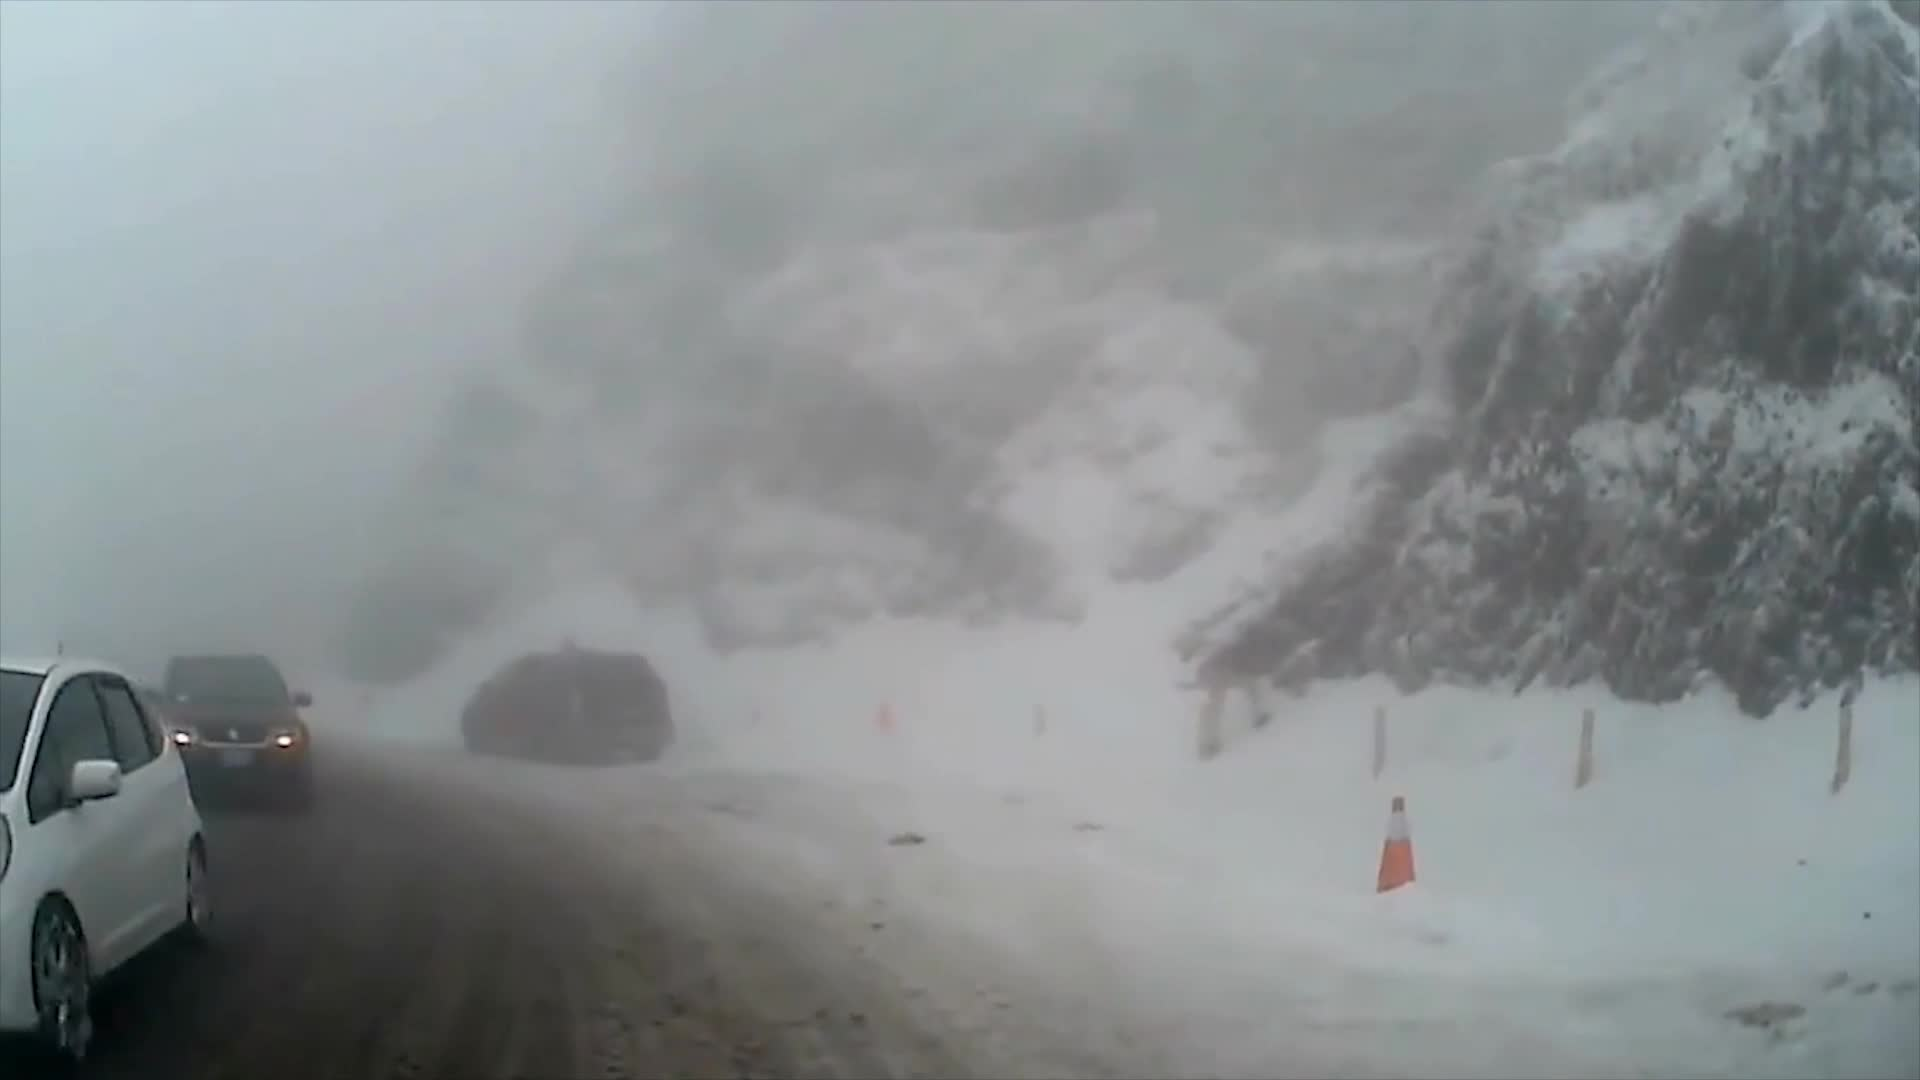vehicle: (0, 651, 216, 1076), (135, 647, 314, 814), (456, 642, 666, 760)
